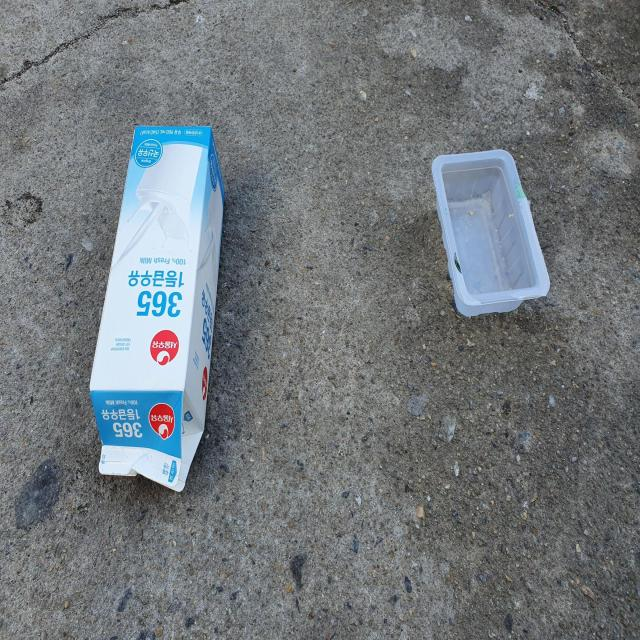paperpack: (89, 125, 224, 492)
plastic: (432, 149, 551, 316)
